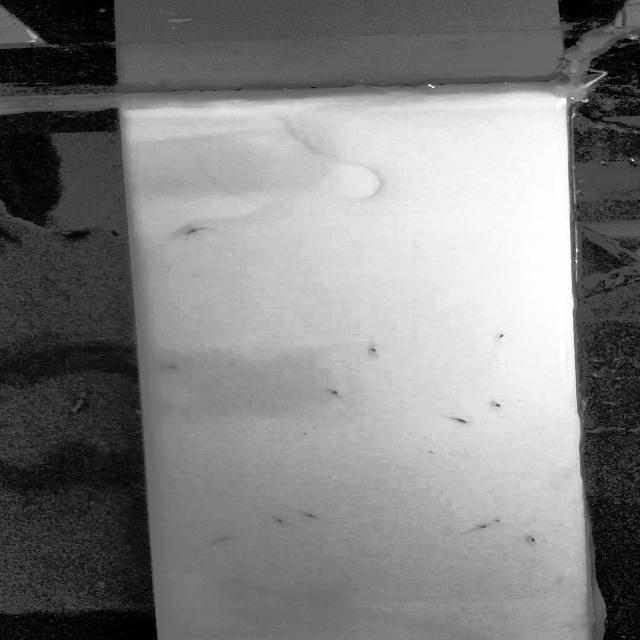shrimp: (441, 413, 478, 427), (179, 226, 213, 240), (486, 395, 504, 412), (323, 386, 348, 398), (208, 536, 238, 546), (298, 510, 326, 520), (469, 524, 492, 534), (271, 516, 293, 525), (364, 344, 383, 354), (494, 332, 512, 342), (524, 535, 542, 545), (164, 363, 179, 372), (486, 516, 505, 522)
